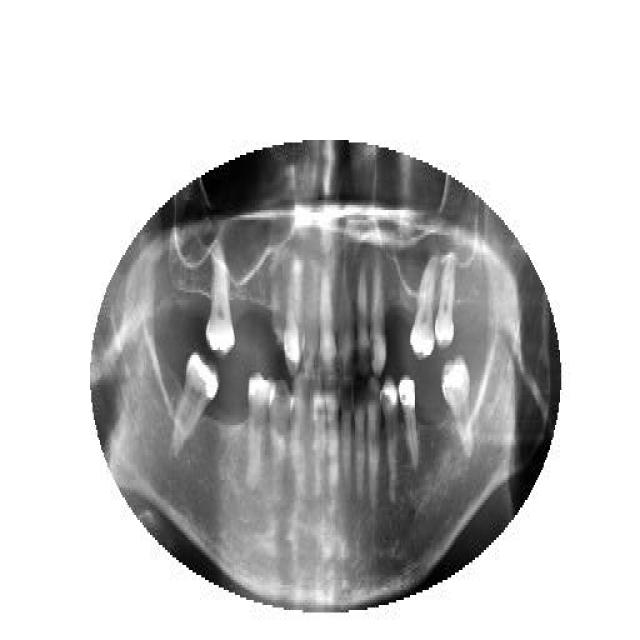Fillings: (170, 355, 218, 447), (380, 378, 400, 500), (399, 378, 419, 472)
